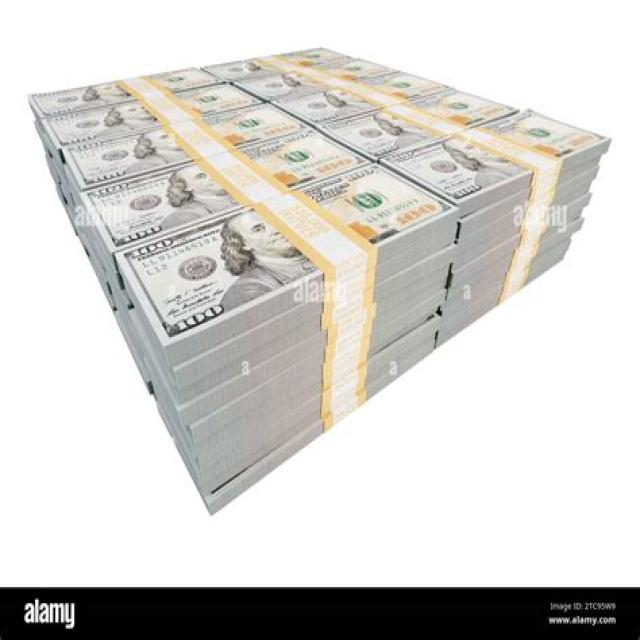Hundred: (125, 160, 457, 344), (85, 127, 372, 252), (378, 102, 609, 201), (68, 102, 315, 192), (29, 66, 227, 122)
